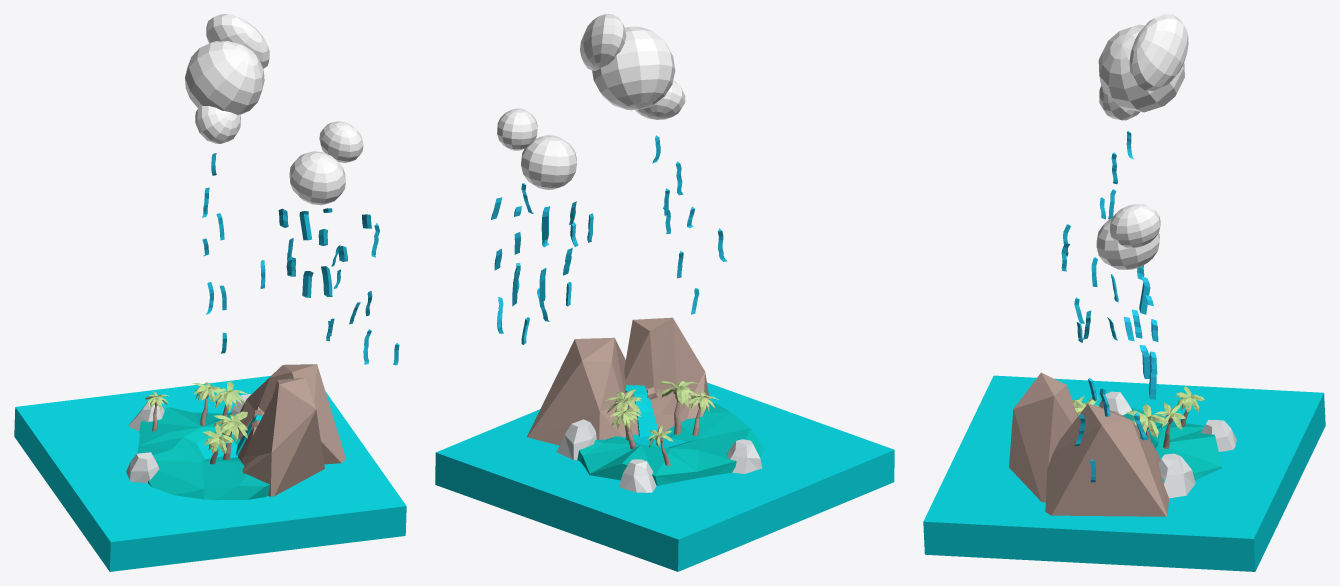
File: islandScaled.fbx
3 views of the same model, side by side, from view 1: azimuth 30°, elevation 25°; view 2: azimuth 150°, elevation 25°; view 3: azimuth 270°, elevation 25° (orthographic). The views are drawn at different scales.
Visible parts, largest first — view 1: group_2073283649, group_444112033; view 2: group_2073283649, group_444112033; view 3: group_2073283649, group_444112033.
Boxes of the visible parts, left/top/right/bottom form: group_2073283649: left=14, top=364, right=406, bottom=571; group_444112033: left=185, top=14, right=363, bottom=205; group_2073283649: left=435, top=317, right=894, bottom=571; group_444112033: left=497, top=14, right=685, bottom=189; group_2073283649: left=923, top=372, right=1325, bottom=571; group_444112033: left=1096, top=14, right=1188, bottom=269.
Bounding box in the file's own units: 3.01 × 3.95 × 2.88.
